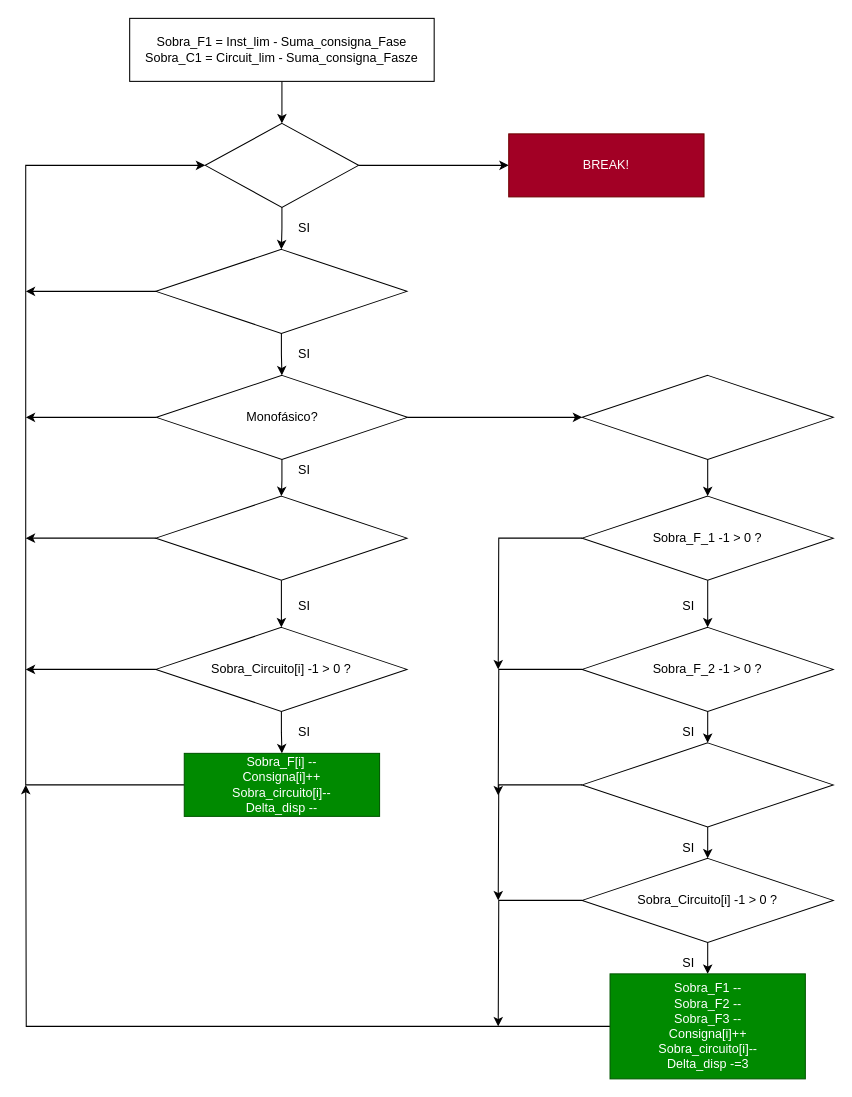
This 852x1097 diagram has some shape labels left out. Each missing label, with the box of its shape:
Delta_disp > 0 ?: (204, 122, 359, 207)
Delta_disp > 3?: (581, 374, 833, 459)
HPT[i] == C2 && Delta[i] == 0?: (155, 248, 407, 333)
Sobra_F[i] -1 > 0 ?: (155, 495, 407, 580)
Sobra_F_3 -1 > 0 ?: (581, 742, 833, 827)
